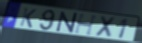1: (117, 18, 129, 40)
9: (39, 9, 58, 31)
H: (73, 13, 99, 36)
K: (19, 7, 38, 29)
N: (56, 11, 79, 34)
X: (94, 15, 117, 39)
